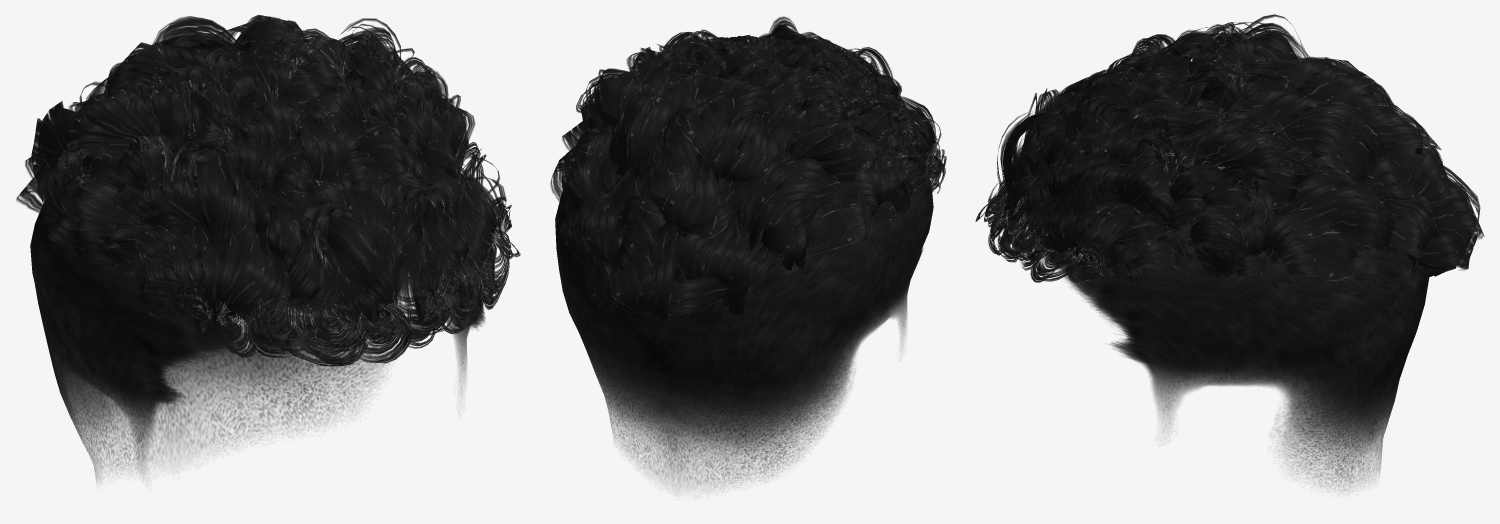
Rendered from HighTopCurls.glb.
The picture shows the model from 3 angles, left to right: view 1: azimuth 30°, elevation 25°; view 2: azimuth 150°, elevation 25°; view 3: azimuth 270°, elevation 25°; orthographic projection. The views are drawn at different scales.
Visible parts, largest first — view 1: FRINGE.002, Scalp HIGH TOP CURLS; view 2: FRINGE.002, Scalp HIGH TOP CURLS; view 3: FRINGE.002, Scalp HIGH TOP CURLS.
Boxes of the visible parts, x1,y1,x2,y2 form: FRINGE.002: [16, 15, 520, 366]; Scalp HIGH TOP CURLS: [30, 106, 494, 481]; FRINGE.002: [550, 16, 946, 322]; Scalp HIGH TOP CURLS: [555, 104, 933, 489]; FRINGE.002: [975, 14, 1484, 283]; Scalp HIGH TOP CURLS: [1026, 104, 1429, 491].
Size of the model in its own units: 0.2245 by 0.2688 by 0.283.
2 materials, 2 textured.
